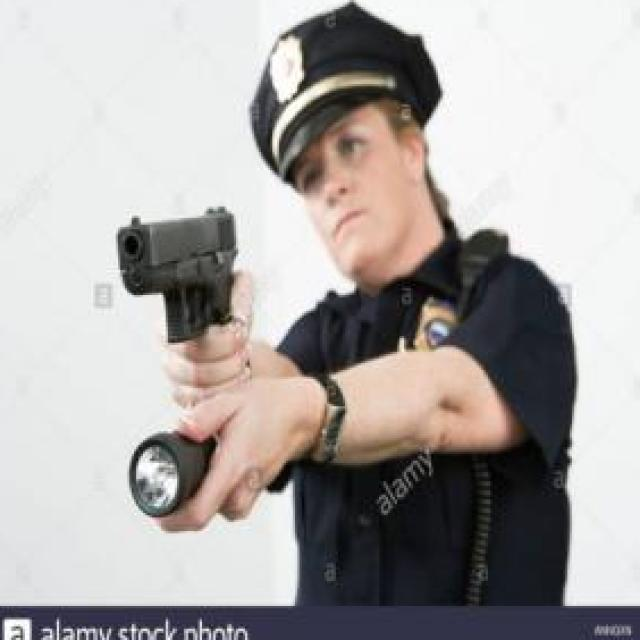pistol: (118, 207, 243, 347)
